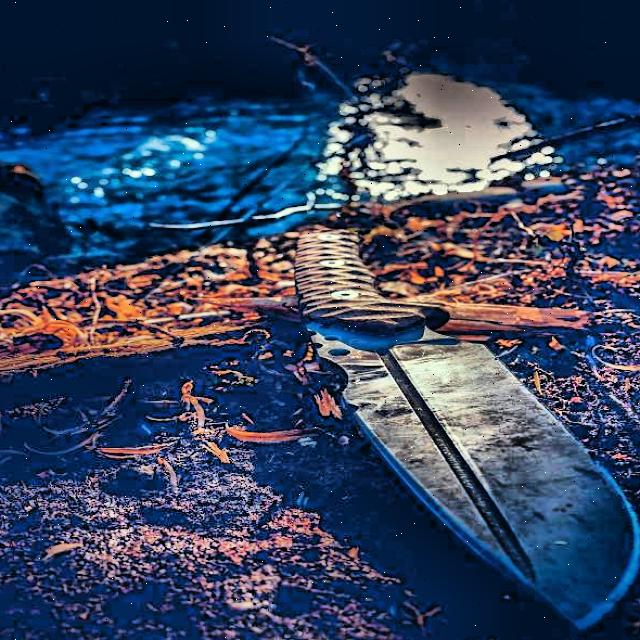knife: (283, 221, 640, 622)
